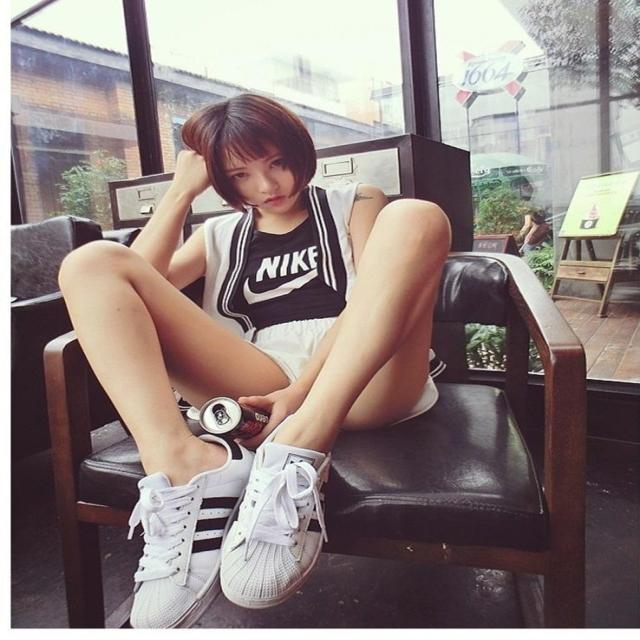shorts: (182, 307, 435, 406)
vest: (220, 190, 350, 330)
